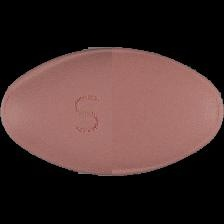61919-431: (0, 0, 224, 224)
